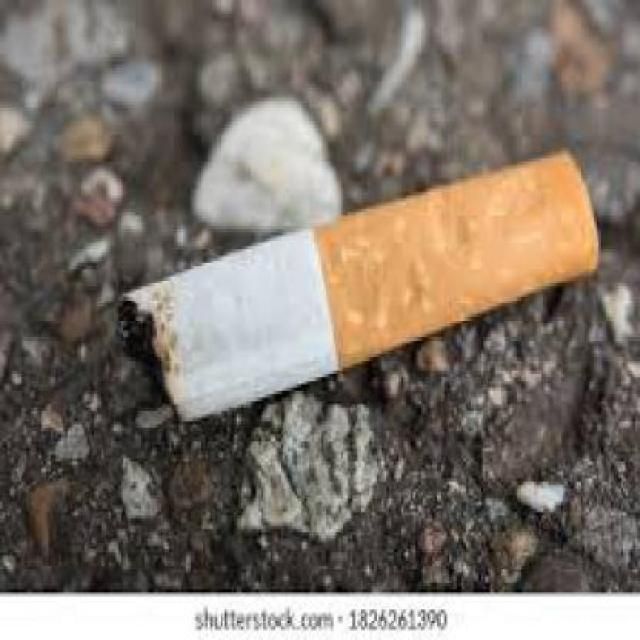cigarette: (104, 144, 608, 428)
